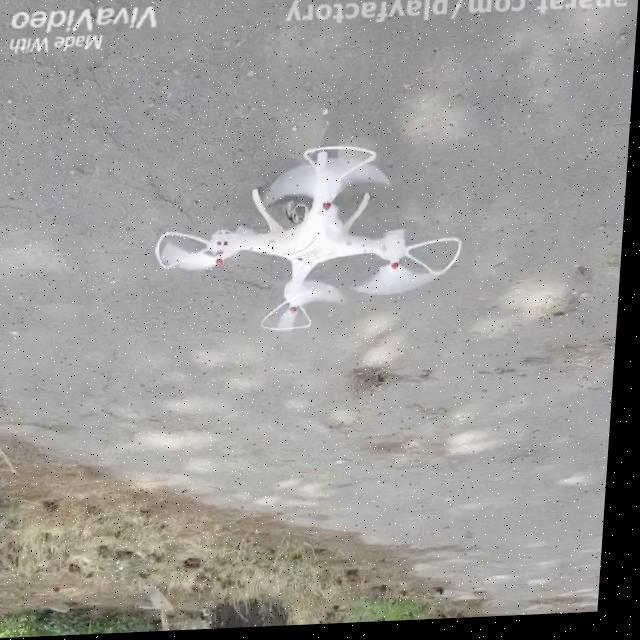drone: (152, 139, 475, 342)
